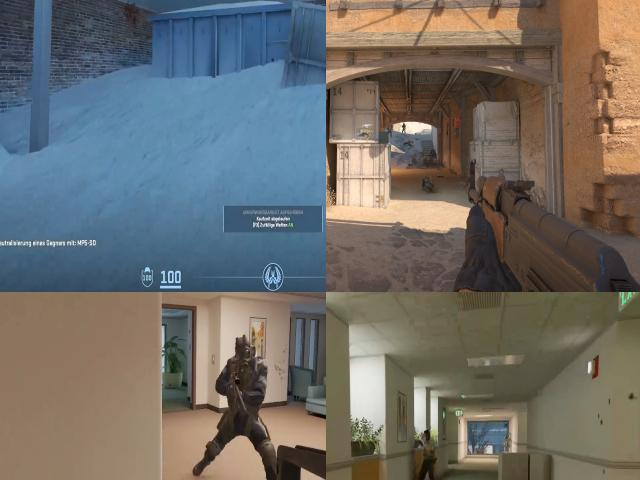CT: (222, 327, 266, 444), (387, 126, 394, 138), (402, 122, 406, 134)
CT-Head: (235, 336, 252, 374), (404, 123, 404, 124)
Dead: (423, 176, 435, 192), (403, 140, 414, 146), (430, 148, 437, 157)
T: (420, 428, 436, 466)
T-Head: (425, 430, 433, 447)
